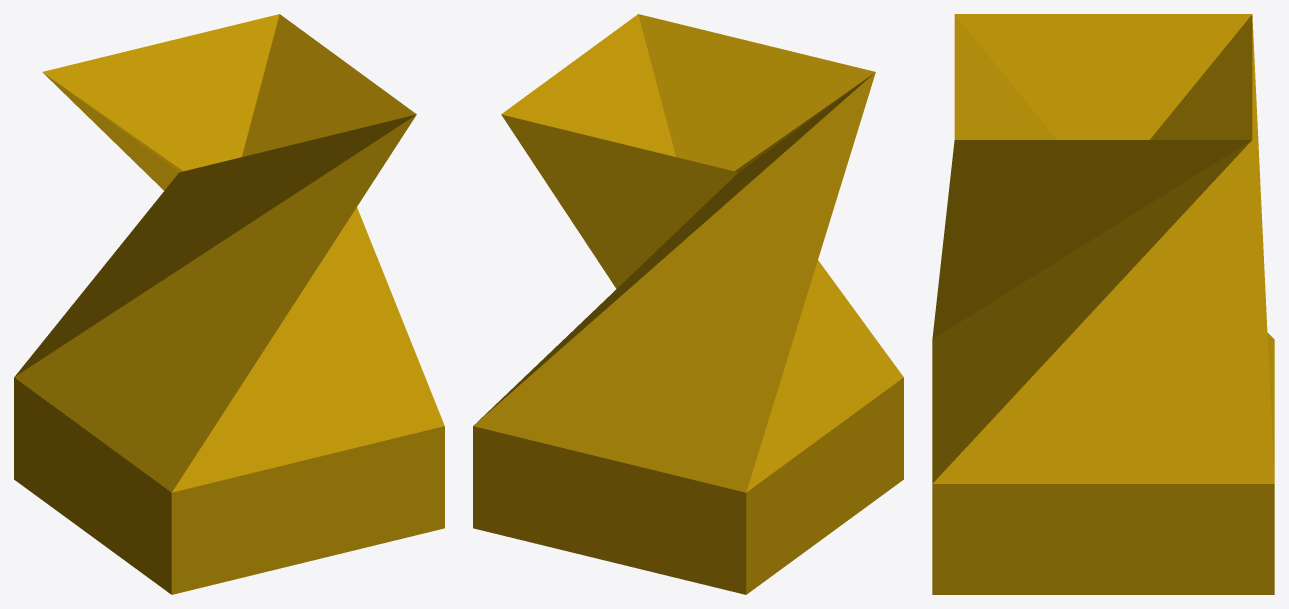
File: trophee.fbx
The picture shows the model from 3 angles, left to right: view 1: azimuth 30°, elevation 25°; view 2: azimuth 150°, elevation 25°; view 3: azimuth 270°, elevation 25°; orthographic projection. The views are drawn at different scales.
Parts seen in each view (by area): view 1: Cube; view 2: Cube; view 3: Cube.
Boxes of the visible parts, x1,y1,x2,y2 form: Cube: (14, 14, 444, 594); Cube: (473, 14, 903, 594); Cube: (932, 14, 1274, 594).
Bounding box in the file's own units: 200 × 287 × 200.
